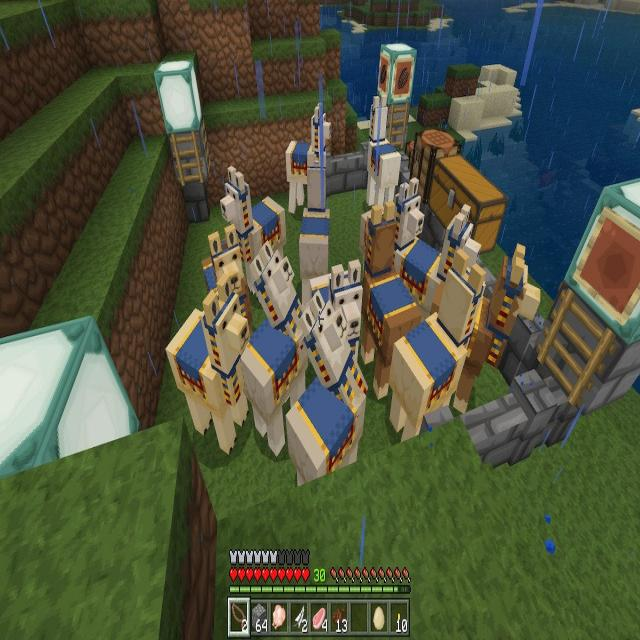Trader Lama: (428, 240, 541, 416), (388, 255, 488, 448), (164, 272, 250, 453), (287, 294, 366, 490), (240, 241, 308, 464), (359, 201, 422, 395), (395, 203, 481, 320), (217, 162, 287, 290), (358, 170, 428, 280), (309, 257, 365, 365), (284, 103, 333, 220), (298, 151, 332, 307), (199, 223, 249, 325), (365, 92, 401, 213)
